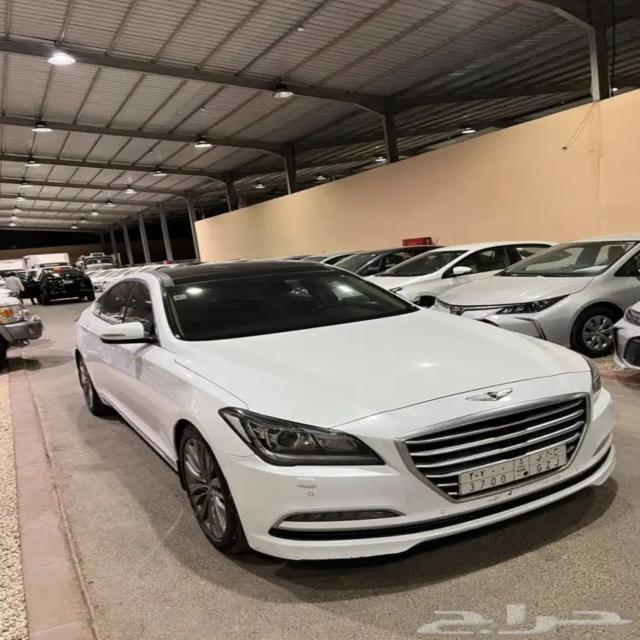license_plate: (460, 444, 566, 496)
